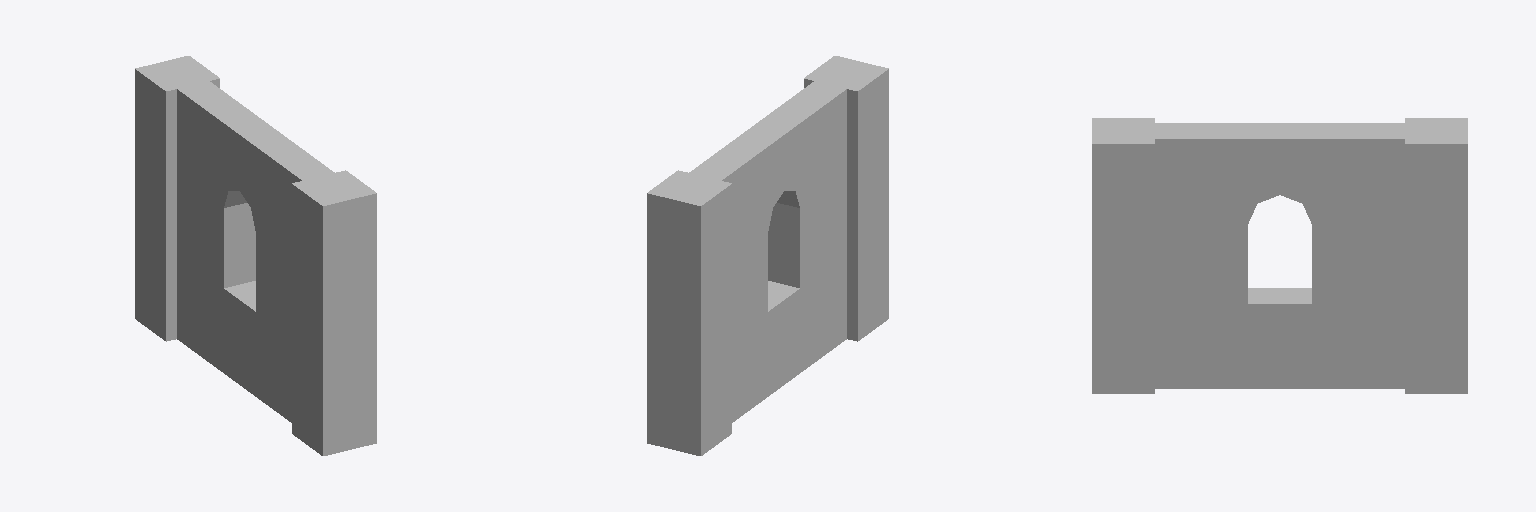
Rendered from Wood_Window_Round_01.obj.
3 renders of one model, left to right at view 1: azimuth 30°, elevation 25°; view 2: azimuth 150°, elevation 25°; view 3: azimuth 270°, elevation 25°, orthographic.
Parts seen in each view (by area): view 1: Mesh1 Wood_Window_Round Model; view 2: Mesh1 Wood_Window_Round Model; view 3: Mesh1 Wood_Window_Round Model.
Boxes of the visible parts, x1=… form: Mesh1 Wood_Window_Round Model: x1=135, y1=56, x2=376, y2=455; Mesh1 Wood_Window_Round Model: x1=647, y1=56, x2=888, y2=455; Mesh1 Wood_Window_Round Model: x1=1092, y1=118, x2=1467, y2=393.
Bounding box in the file's own units: 0.5 × 2.2 × 3.